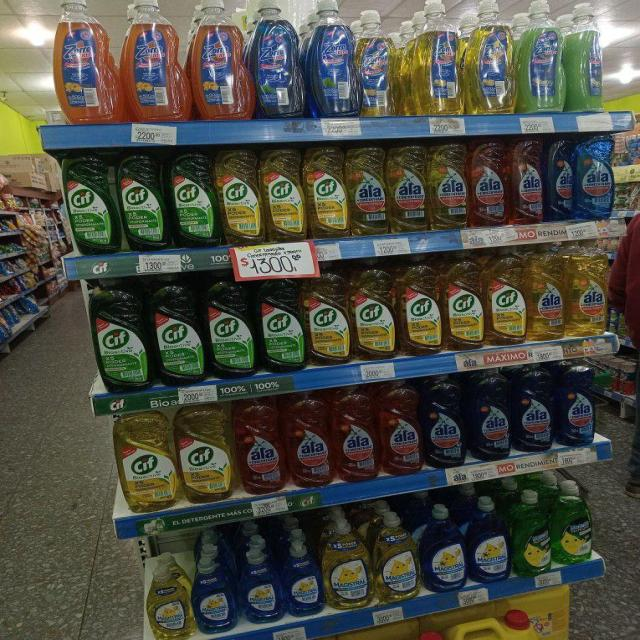ala_conc_amarillo: (566, 242, 608, 337), (528, 244, 564, 342), (429, 142, 469, 230), (389, 144, 428, 233), (348, 146, 387, 235)
ala_conc_azul: (467, 367, 511, 461), (423, 372, 465, 468), (512, 362, 554, 453), (556, 361, 596, 446), (576, 133, 613, 220), (546, 136, 574, 222)
ala_conc_rojo: (236, 396, 284, 494), (286, 390, 332, 488), (333, 384, 378, 483), (379, 378, 422, 476), (470, 138, 507, 228), (509, 136, 545, 225)
cif_conc_bot_amarilla: (118, 410, 176, 510), (178, 404, 233, 503), (305, 263, 350, 365), (351, 257, 395, 360), (398, 253, 441, 356), (218, 148, 261, 245), (442, 249, 483, 350), (485, 246, 526, 346), (262, 149, 304, 241), (306, 148, 347, 238)
cif_conc_botella_verde: (94, 278, 149, 390), (152, 274, 204, 384), (205, 270, 255, 378), (66, 151, 116, 254), (119, 151, 166, 251), (170, 149, 217, 248), (258, 271, 304, 372)
magistral_con_amarillo: (324, 518, 371, 610), (374, 510, 419, 602), (146, 551, 191, 640)
magistral_con_azul: (193, 533, 237, 634), (422, 503, 466, 592), (468, 494, 511, 582), (240, 539, 282, 624), (284, 535, 323, 617)
